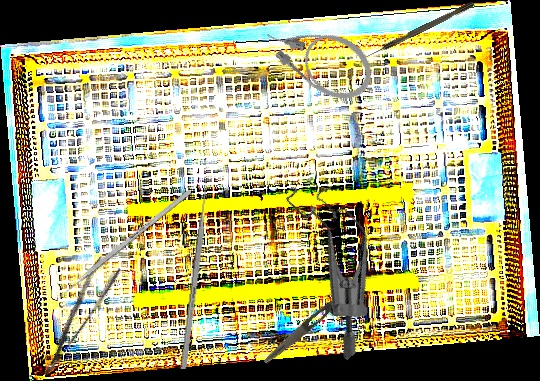Cannula: (256, 2, 384, 112)
Dressing Forceps: (25, 254, 124, 379), (261, 272, 368, 367)
Hook Surgical: (364, 1, 476, 59)
Pusher: (49, 188, 193, 306), (180, 177, 211, 370)
Speculum: (237, 166, 425, 362)
